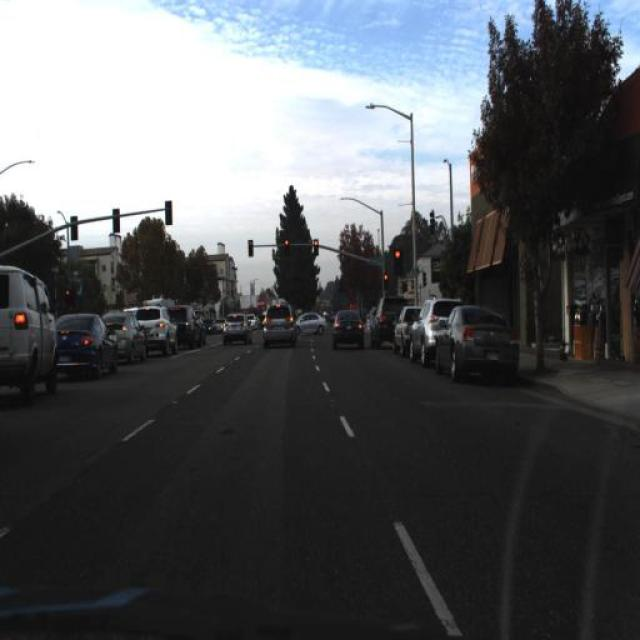car: (426, 298, 530, 384), (0, 261, 60, 404), (432, 303, 518, 383), (51, 308, 118, 387), (409, 292, 459, 362), (409, 297, 459, 363), (98, 304, 148, 364), (368, 292, 408, 358), (134, 302, 178, 358), (135, 303, 179, 358), (105, 310, 147, 362), (166, 299, 202, 355), (389, 300, 423, 359), (260, 301, 298, 350), (172, 305, 207, 355), (372, 297, 402, 353), (330, 306, 364, 352), (393, 304, 418, 354), (219, 310, 250, 350), (223, 312, 251, 348), (294, 314, 328, 341), (284, 236, 290, 254)
trafficLight-RedLeft: (392, 243, 406, 283), (278, 231, 292, 260), (244, 238, 257, 264), (380, 267, 391, 297), (310, 232, 322, 258), (393, 250, 403, 274), (312, 238, 318, 258), (247, 240, 252, 255)
